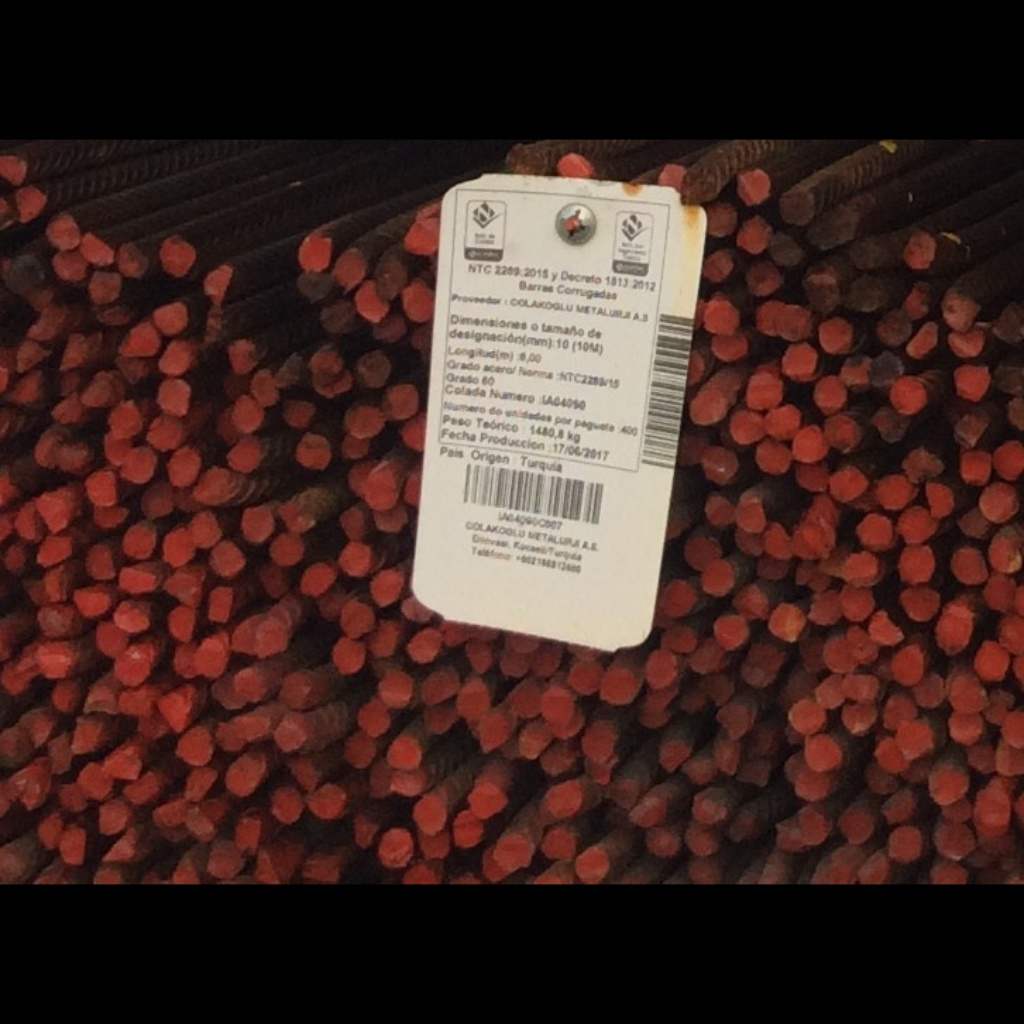dipstick: (805, 262, 843, 313), (224, 753, 266, 799), (808, 210, 854, 248), (936, 605, 971, 653), (974, 787, 1007, 837), (743, 643, 781, 685), (791, 519, 830, 558), (701, 445, 739, 485), (679, 165, 717, 204), (952, 363, 990, 401), (543, 778, 582, 815), (981, 482, 1018, 521), (163, 571, 203, 607), (932, 825, 976, 857), (992, 300, 1024, 344), (159, 239, 196, 277), (38, 641, 76, 678), (276, 496, 314, 533), (273, 716, 311, 753), (803, 734, 842, 770), (575, 844, 610, 884), (342, 403, 383, 437), (239, 504, 273, 545), (898, 586, 939, 620), (207, 840, 244, 877), (898, 545, 935, 582), (744, 373, 781, 410), (293, 433, 331, 469), (227, 433, 262, 472), (504, 145, 548, 176), (71, 585, 111, 619), (826, 844, 860, 884), (992, 440, 1024, 482), (830, 466, 867, 502), (754, 437, 791, 473), (775, 304, 811, 341), (5, 256, 40, 294), (354, 349, 389, 387), (378, 829, 413, 867), (637, 689, 672, 727), (662, 578, 696, 617), (928, 768, 967, 802), (400, 283, 434, 322), (2, 658, 35, 698), (176, 729, 212, 765), (897, 507, 933, 543), (112, 653, 149, 688), (421, 668, 458, 703), (825, 414, 860, 451), (80, 228, 114, 266), (297, 232, 331, 270), (352, 282, 385, 321), (840, 583, 873, 622), (857, 512, 890, 551), (874, 476, 913, 509), (210, 541, 246, 576), (121, 521, 155, 558), (792, 425, 826, 462), (953, 411, 987, 448), (153, 801, 186, 839), (689, 792, 727, 825), (952, 544, 985, 582), (818, 317, 851, 355), (737, 167, 770, 205), (770, 602, 802, 641), (904, 448, 943, 480), (873, 410, 912, 442), (990, 531, 1019, 574), (38, 493, 69, 533), (891, 645, 922, 685), (84, 541, 114, 582), (194, 466, 228, 502), (229, 397, 265, 431), (339, 600, 373, 636), (734, 583, 768, 619), (892, 379, 928, 413), (332, 249, 365, 286), (308, 345, 341, 382), (71, 716, 104, 753), (307, 785, 344, 818), (781, 342, 818, 375), (36, 607, 78, 636), (78, 761, 110, 799), (581, 723, 613, 761), (681, 825, 719, 857), (15, 339, 55, 369), (29, 572, 63, 607), (183, 767, 217, 802), (887, 827, 922, 861), (729, 410, 764, 444), (846, 276, 880, 311), (778, 190, 812, 225), (46, 212, 78, 249), (157, 379, 189, 416), (228, 338, 260, 375), (379, 671, 411, 708), (691, 637, 723, 674), (959, 448, 991, 485), (747, 260, 779, 297), (736, 215, 768, 252), (318, 300, 356, 331), (1, 722, 32, 760), (469, 784, 507, 815), (949, 682, 987, 713), (300, 854, 339, 884), (716, 703, 750, 737), (764, 406, 798, 440), (703, 300, 737, 334), (857, 849, 890, 884), (685, 534, 720, 567), (902, 234, 935, 269), (701, 248, 734, 283), (976, 643, 1008, 679), (688, 393, 724, 425), (877, 310, 909, 346), (146, 420, 183, 451), (167, 448, 198, 485), (196, 641, 227, 678), (413, 795, 444, 832), (798, 806, 829, 843), (421, 706, 459, 736), (117, 564, 156, 593), (9, 370, 43, 403), (407, 629, 441, 662), (898, 723, 932, 756), (868, 351, 901, 385), (124, 324, 159, 356), (157, 341, 189, 376), (112, 602, 152, 630), (189, 512, 221, 547), (279, 671, 311, 706), (331, 637, 363, 672), (568, 661, 600, 696), (905, 321, 937, 356), (203, 265, 234, 301), (370, 569, 401, 605), (644, 650, 675, 686), (631, 796, 667, 827), (406, 217, 437, 253), (159, 693, 189, 730), (809, 589, 839, 626), (11, 770, 40, 808), (541, 830, 574, 863), (684, 754, 717, 787), (270, 788, 304, 820), (499, 834, 531, 868), (789, 701, 823, 733), (83, 684, 118, 715), (338, 540, 369, 575), (509, 681, 540, 716), (701, 561, 732, 596), (813, 376, 844, 411), (449, 811, 479, 847), (520, 722, 550, 758), (825, 637, 854, 674), (87, 468, 115, 506), (385, 385, 417, 418), (455, 684, 488, 716), (269, 534, 303, 565), (101, 830, 135, 861), (387, 739, 421, 770), (531, 643, 562, 677), (767, 232, 801, 263), (95, 622, 125, 657), (117, 686, 152, 716), (167, 605, 197, 640), (795, 462, 830, 492), (117, 241, 146, 277), (985, 576, 1014, 612), (849, 239, 887, 266), (657, 739, 689, 771), (155, 301, 186, 334), (299, 562, 332, 593), (885, 696, 916, 729), (703, 205, 736, 236), (15, 186, 45, 220), (111, 403, 141, 437), (35, 535, 69, 565), (50, 678, 80, 712), (839, 812, 873, 842), (338, 507, 368, 541), (255, 622, 284, 657), (794, 771, 830, 799), (31, 308, 63, 339), (125, 772, 157, 803), (235, 667, 266, 699), (108, 748, 141, 778), (342, 734, 372, 767), (287, 757, 320, 787), (957, 504, 987, 537), (162, 530, 191, 564), (541, 743, 575, 772), (727, 808, 756, 842), (877, 737, 906, 771), (279, 397, 314, 425), (414, 832, 449, 860), (464, 640, 492, 675), (557, 153, 593, 180), (929, 861, 971, 884), (480, 716, 506, 753), (359, 703, 390, 734), (600, 671, 631, 702), (703, 495, 734, 526), (122, 448, 152, 480), (231, 614, 255, 654), (864, 763, 897, 792), (90, 270, 118, 304), (949, 713, 983, 741), (35, 430, 60, 468), (843, 675, 878, 702), (235, 815, 259, 854), (765, 521, 791, 557), (497, 647, 528, 677), (881, 789, 911, 820), (994, 361, 1024, 392), (141, 485, 170, 517), (842, 703, 874, 732), (873, 612, 902, 644), (23, 710, 50, 744), (702, 675, 736, 702), (60, 825, 84, 863), (369, 761, 393, 799), (49, 733, 71, 774), (297, 270, 327, 300), (207, 586, 232, 622), (606, 775, 636, 805), (710, 334, 746, 359), (947, 331, 983, 356), (238, 712, 269, 741), (540, 691, 571, 720), (715, 619, 746, 648), (365, 476, 394, 507), (83, 375, 111, 407), (187, 808, 215, 840), (392, 768, 425, 795), (840, 352, 867, 385), (928, 480, 952, 517), (661, 627, 695, 653), (479, 842, 504, 877), (214, 722, 244, 751), (772, 822, 802, 851), (849, 630, 878, 660), (966, 744, 995, 774), (255, 853, 283, 884), (816, 675, 844, 706), (915, 675, 943, 706), (844, 551, 875, 579), (98, 801, 125, 833), (736, 499, 763, 531), (252, 369, 277, 403), (172, 645, 197, 679), (987, 688, 1012, 722), (741, 758, 770, 787), (53, 251, 83, 279), (102, 434, 129, 465), (212, 679, 239, 710), (93, 504, 125, 530), (368, 623, 394, 655), (401, 417, 427, 449), (16, 499, 36, 540), (1000, 619, 1024, 653), (60, 335, 86, 366), (647, 829, 675, 857), (716, 740, 739, 774), (733, 530, 764, 555), (1000, 715, 1024, 747), (373, 317, 403, 342), (354, 815, 376, 849), (39, 815, 62, 847), (5, 544, 29, 574), (756, 301, 777, 335), (404, 464, 421, 506), (57, 445, 88, 468), (337, 435, 368, 458), (756, 558, 787, 581), (373, 507, 404, 530), (55, 784, 81, 811), (1, 156, 26, 184), (115, 358, 143, 383), (657, 165, 685, 190), (379, 263, 400, 296), (904, 286, 925, 318), (348, 462, 366, 499), (998, 744, 1019, 774), (53, 370, 81, 392), (943, 801, 970, 822)
